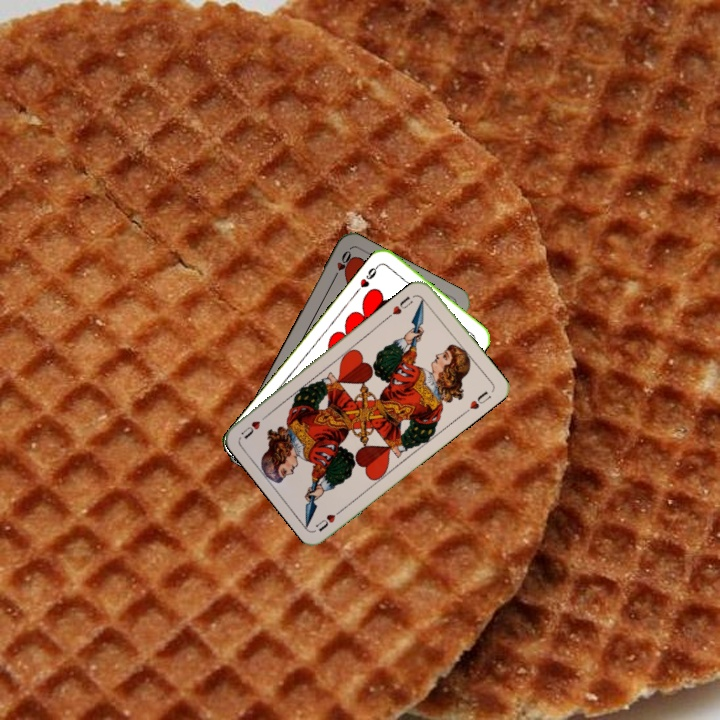H9: (353, 260, 383, 294)
HO: (328, 247, 355, 284)
HU: (311, 504, 347, 534), (388, 292, 416, 317)
